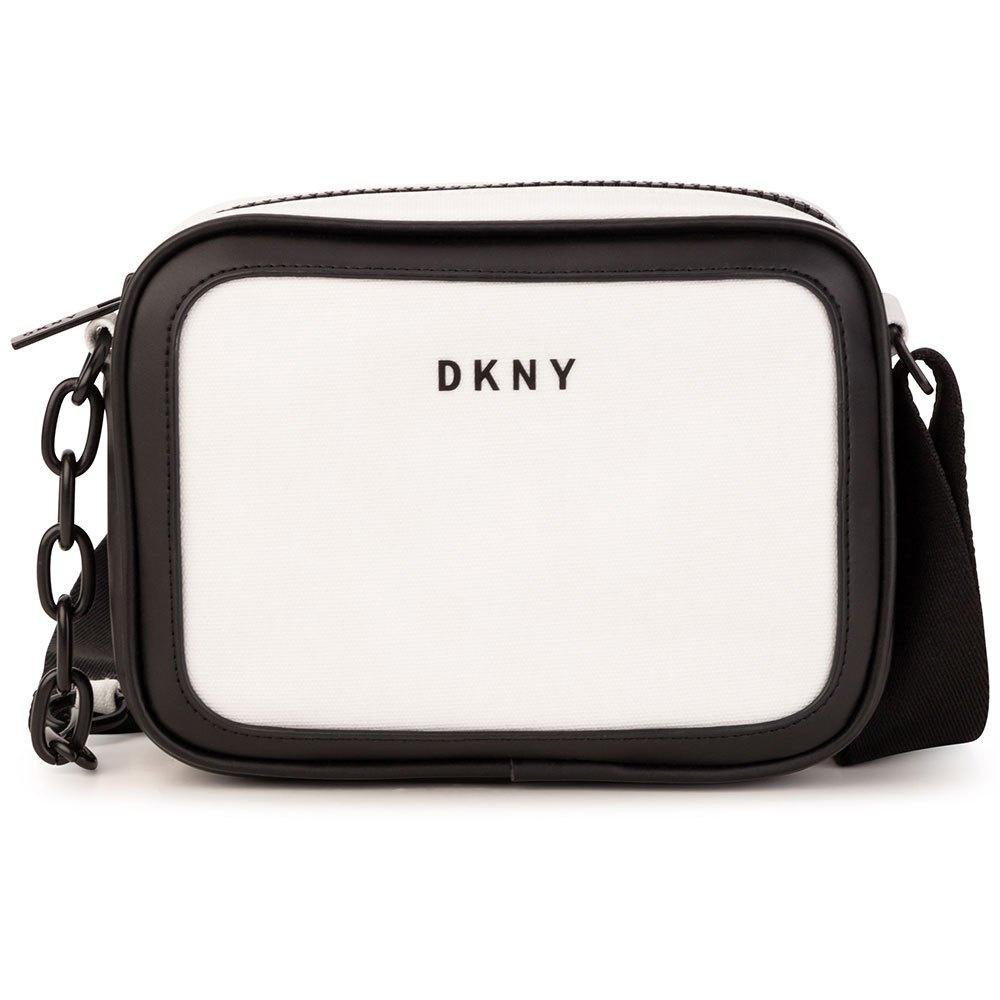DKNY: (438, 359, 576, 391)
